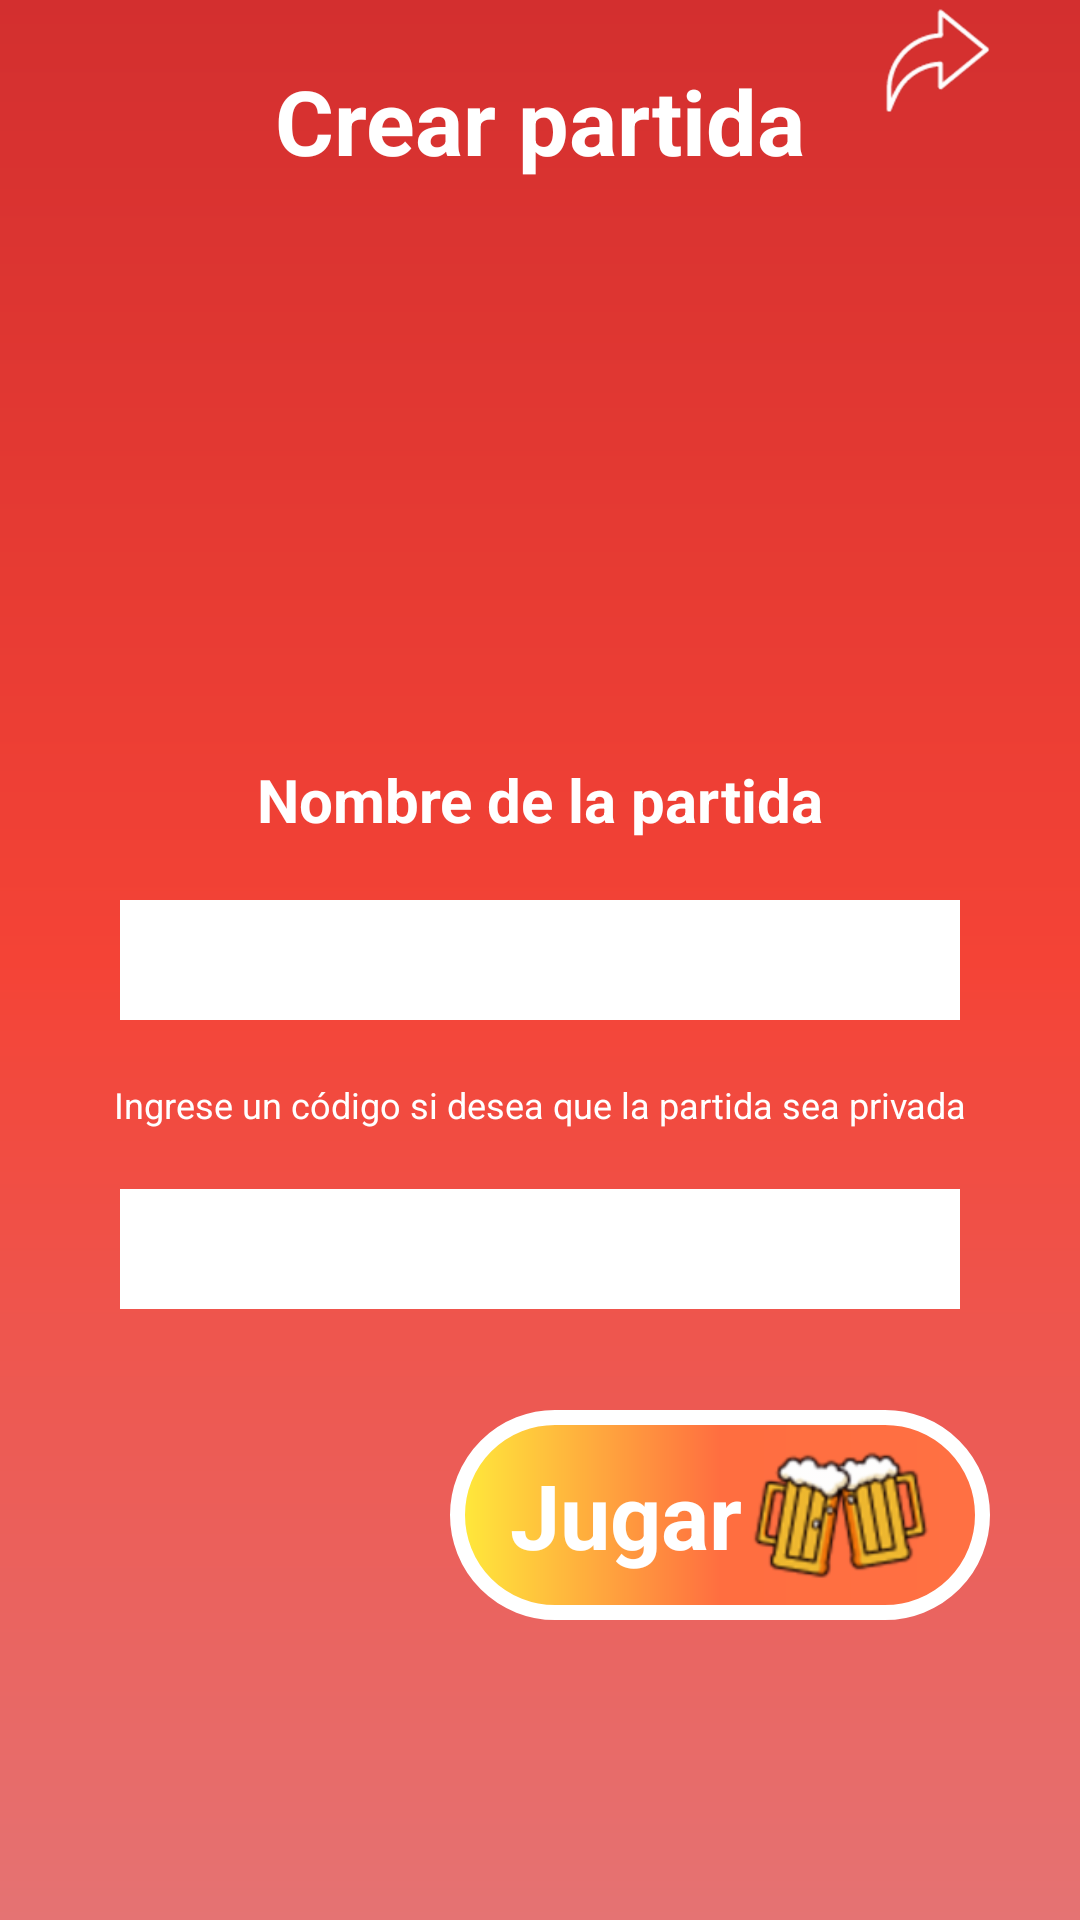

Where to tap for icons on this 1080×1920 app screen, as (x,y):
beers: (840,1515)
share: (937,60)
